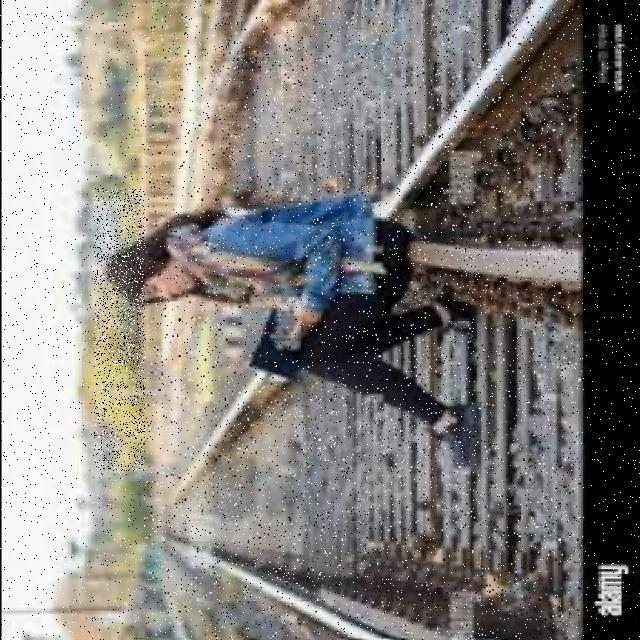danger: (94, 188, 488, 471)
rail: (145, 9, 580, 638)
